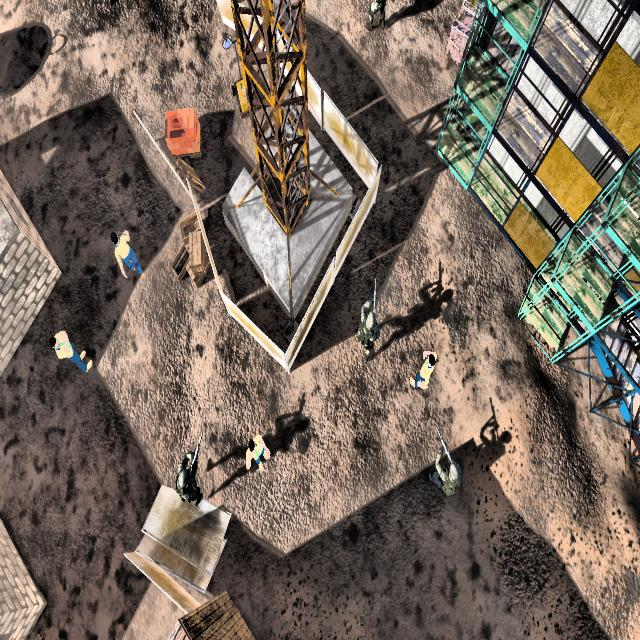bad: (422, 422, 464, 508), (165, 430, 208, 510), (350, 280, 386, 370), (365, 0, 391, 37)
good: (44, 309, 98, 387), (108, 216, 149, 298), (406, 335, 441, 410), (238, 421, 273, 482)
